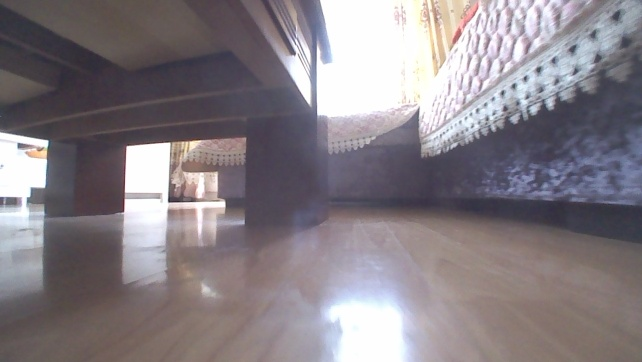sofa: (174, 0, 641, 245)
tea_table1: (0, 0, 337, 230)
